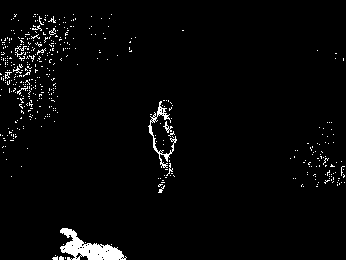person: (150, 98, 177, 193)
